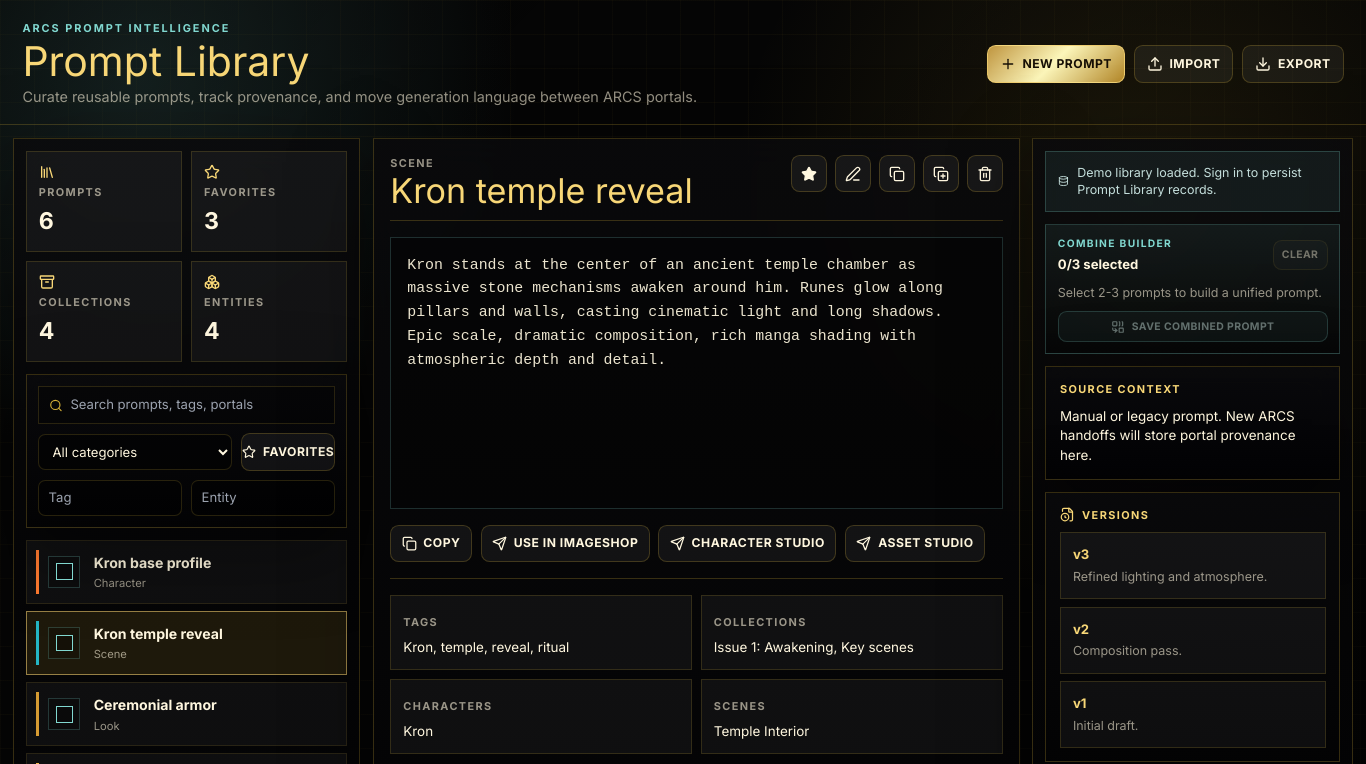
Scenario: PromptLibraryPortal › supports shortcut multi-select from prompt rows
Click the button "Kron base profile Character" at (214, 572), box [90, 550, 338, 594]
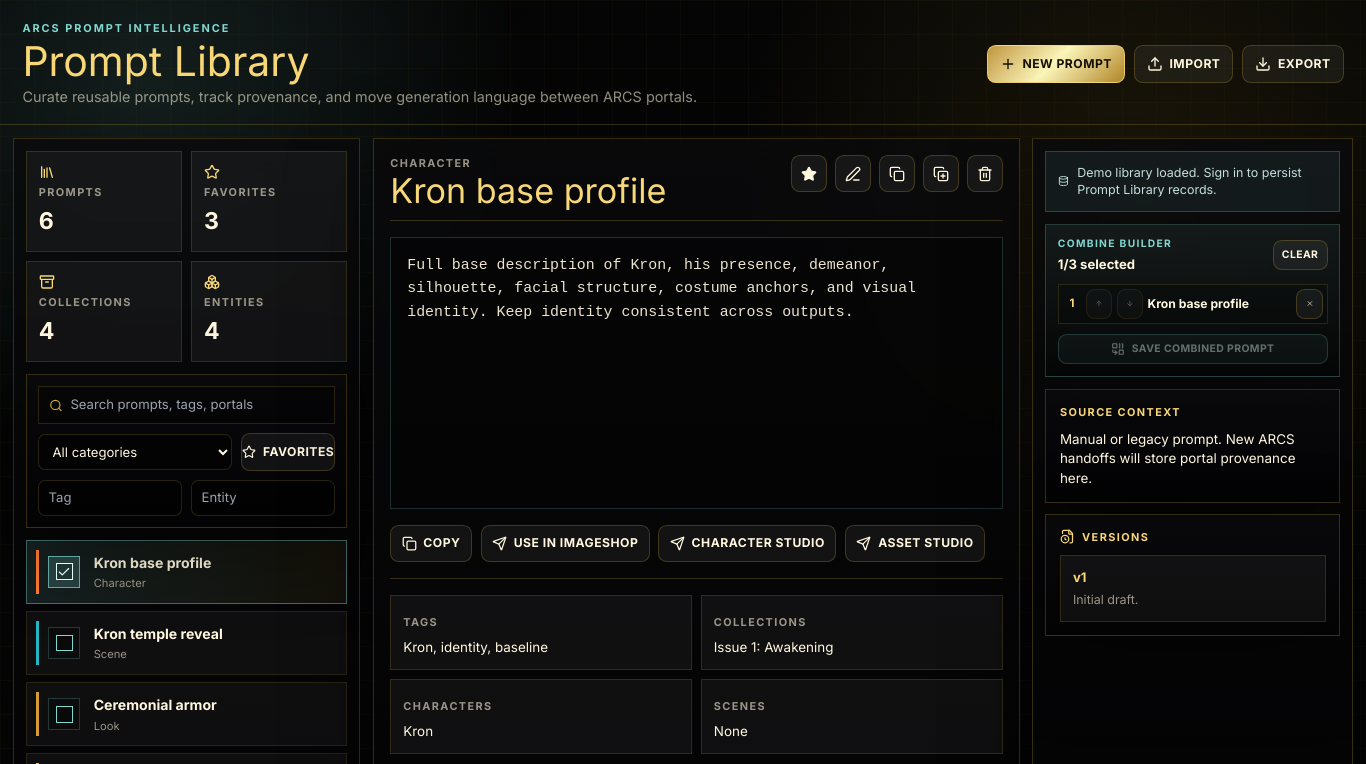
Click the button "Kron temple reveal Scene" at (214, 643), box [90, 621, 338, 665]
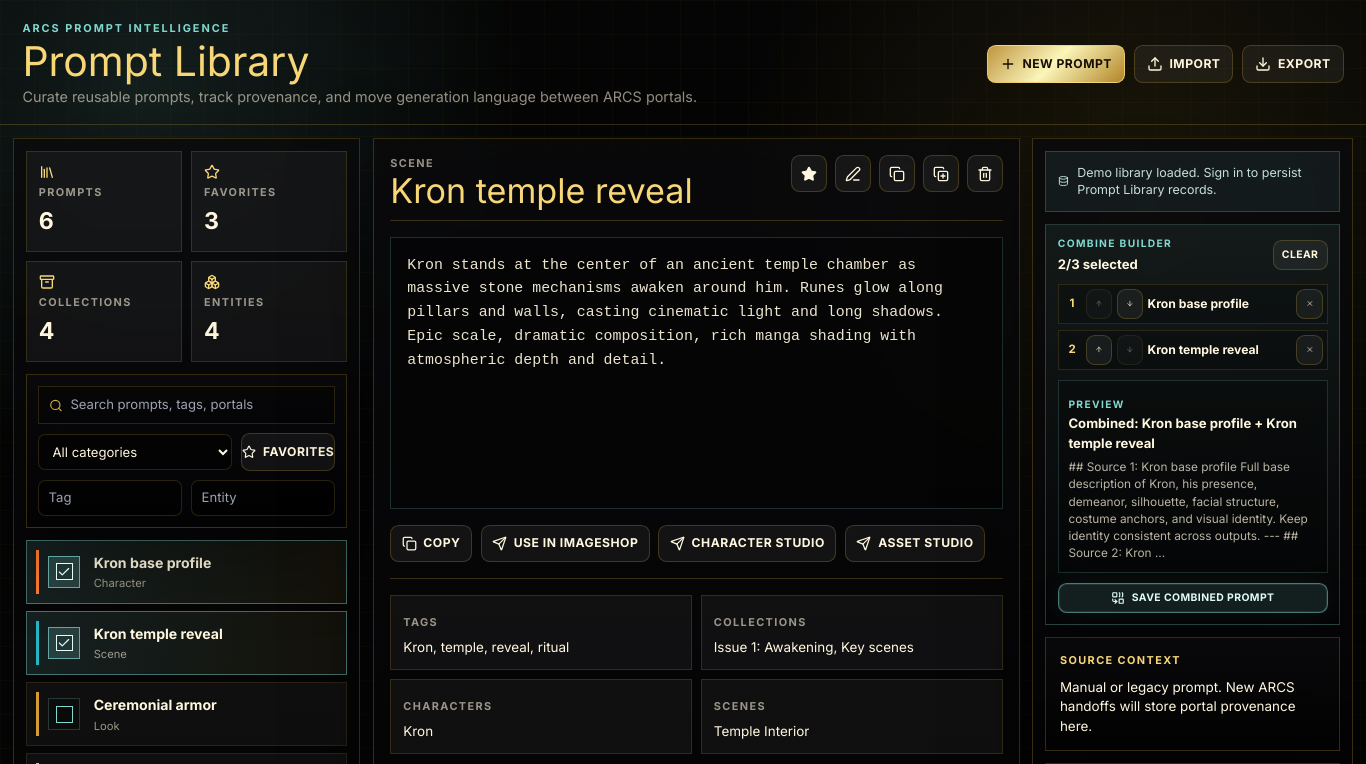
Expected: the text "2/3 selected" is shown, [1058, 256, 1138, 272]
Expected: the button "Save combined prompt" is enabled, [1058, 582, 1328, 613]
